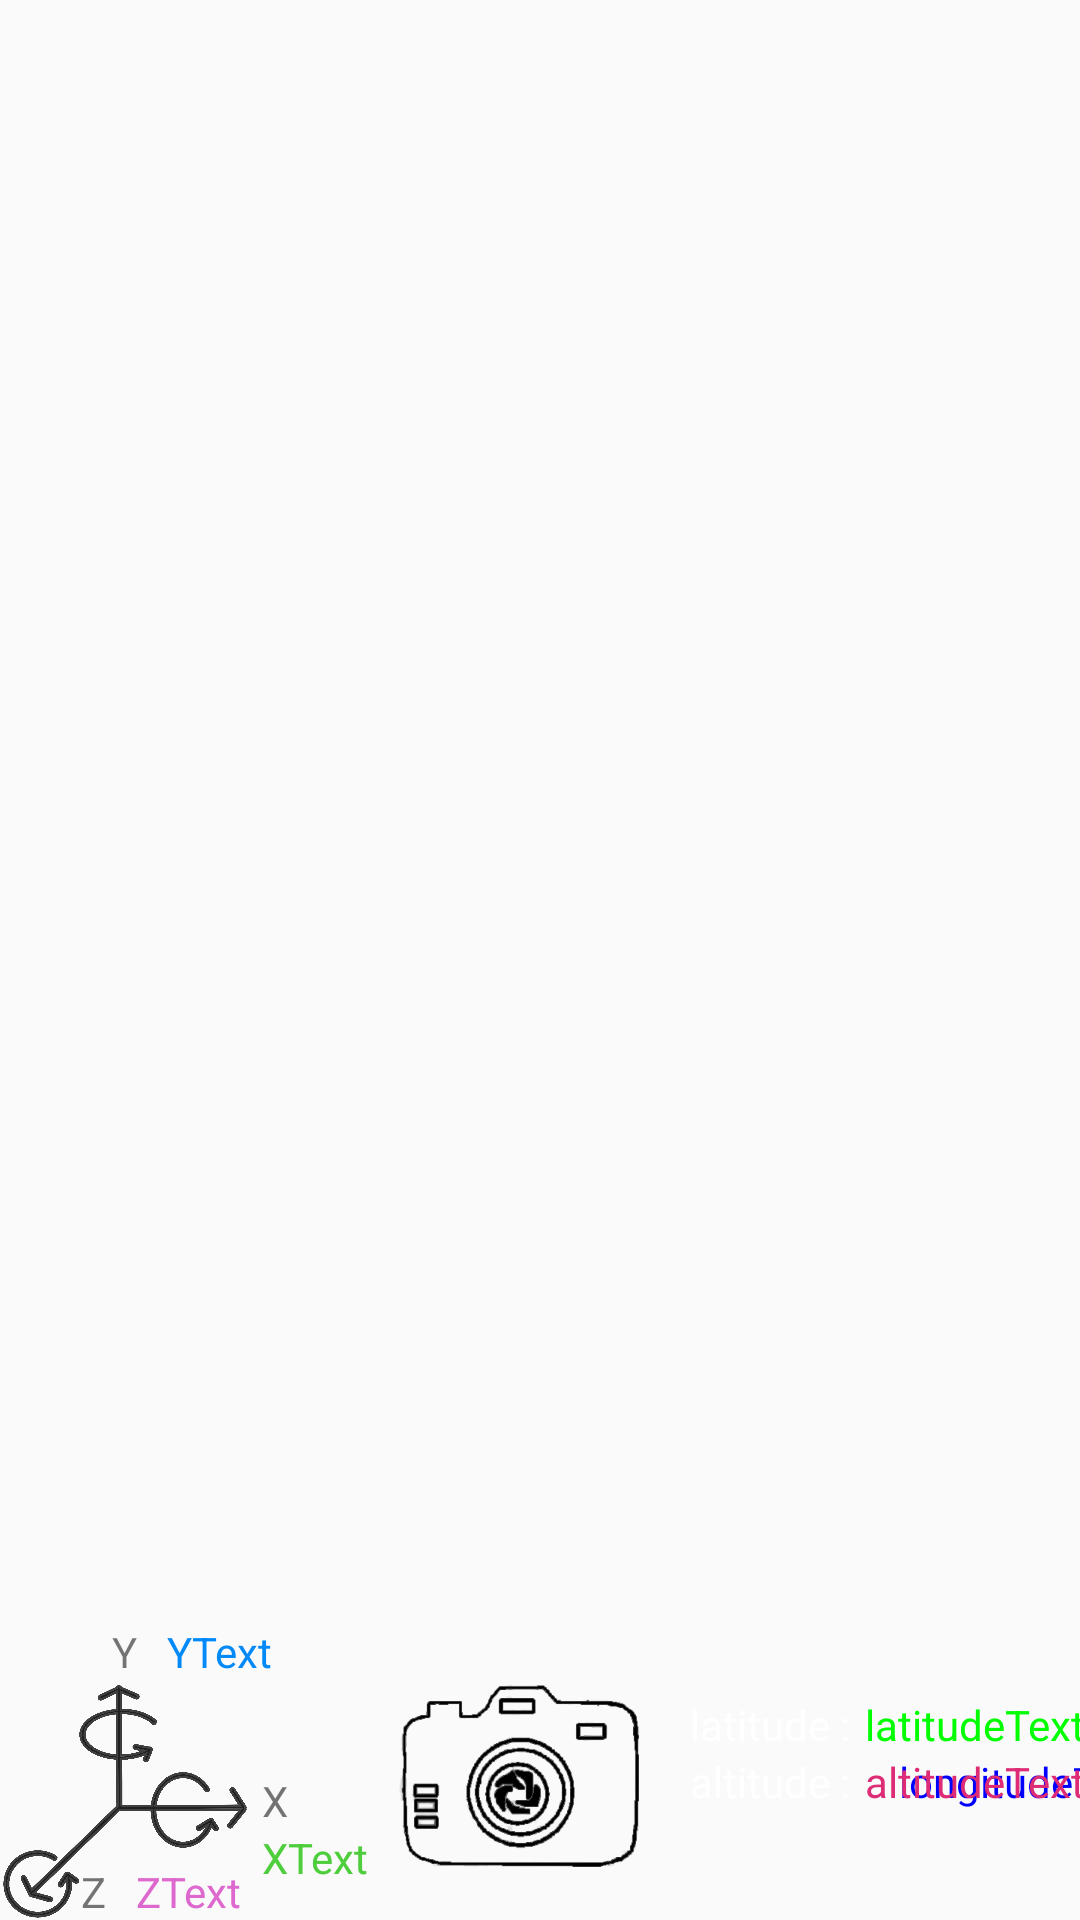

Where icons sit on this 1080 × 1920 app screen, as [left=x1, top=y1, right=x2, bottom=y2]:
angle: [left=3, top=1685, right=247, bottom=1918]
cam: [left=400, top=1685, right=639, bottom=1867]
